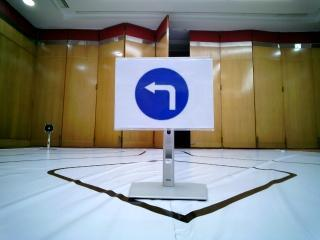left: (115, 59, 212, 127)
